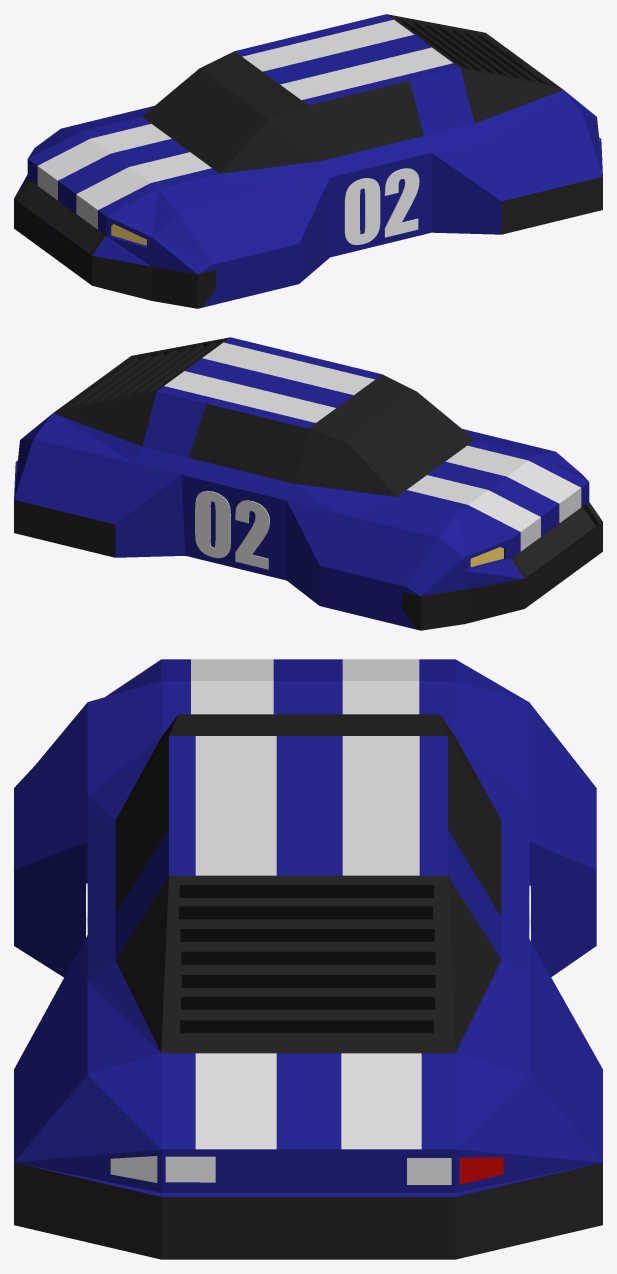
Rendered from auto02.fbx.
3 views of the same model, one above another, from view 1: azimuth 30°, elevation 25°; view 2: azimuth 150°, elevation 25°; view 3: azimuth 270°, elevation 25° (orthographic). The views are drawn at different scales.
Visible parts, largest first — view 1: Group1; view 2: Group1; view 3: Group1.
Boxes of the visible parts, box(x1,y1,x2,y2) form: Group1: box(14, 14, 602, 308); Group1: box(14, 337, 602, 630); Group1: box(14, 659, 602, 1259).
Size of the model in its own units: 7.01 by 1.79 by 3.73.
